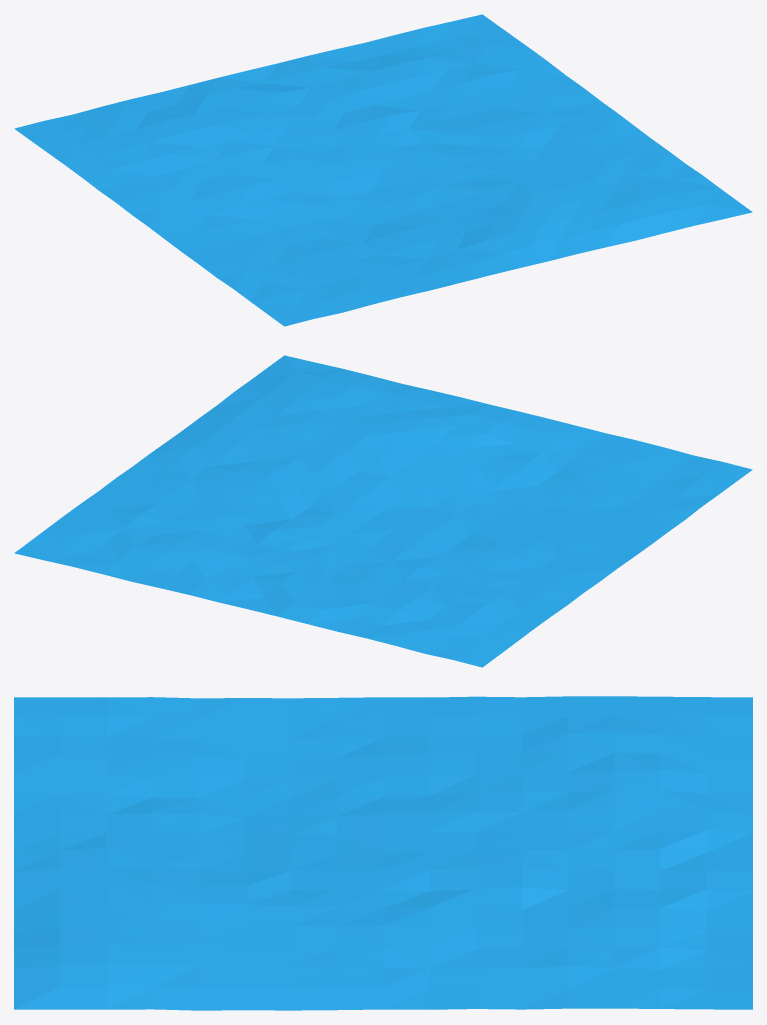
File: SM_Water_01_A.fbx
3 views of the same model, one above another, from view 1: azimuth 30°, elevation 25°; view 2: azimuth 150°, elevation 25°; view 3: azimuth 270°, elevation 25° (orthographic). The views are drawn at different scales.
Parts seen in each view (by area): view 1: Water_01_A; view 2: Water_01_A; view 3: Water_01_A.
Boxes of the visible parts, x1,y1,x2,y2 form: Water_01_A: (14,14,752,326); Water_01_A: (14,355,752,667); Water_01_A: (14,696,752,1010).
Size of the model in its own units: 1600 by 25.89 by 1600.
